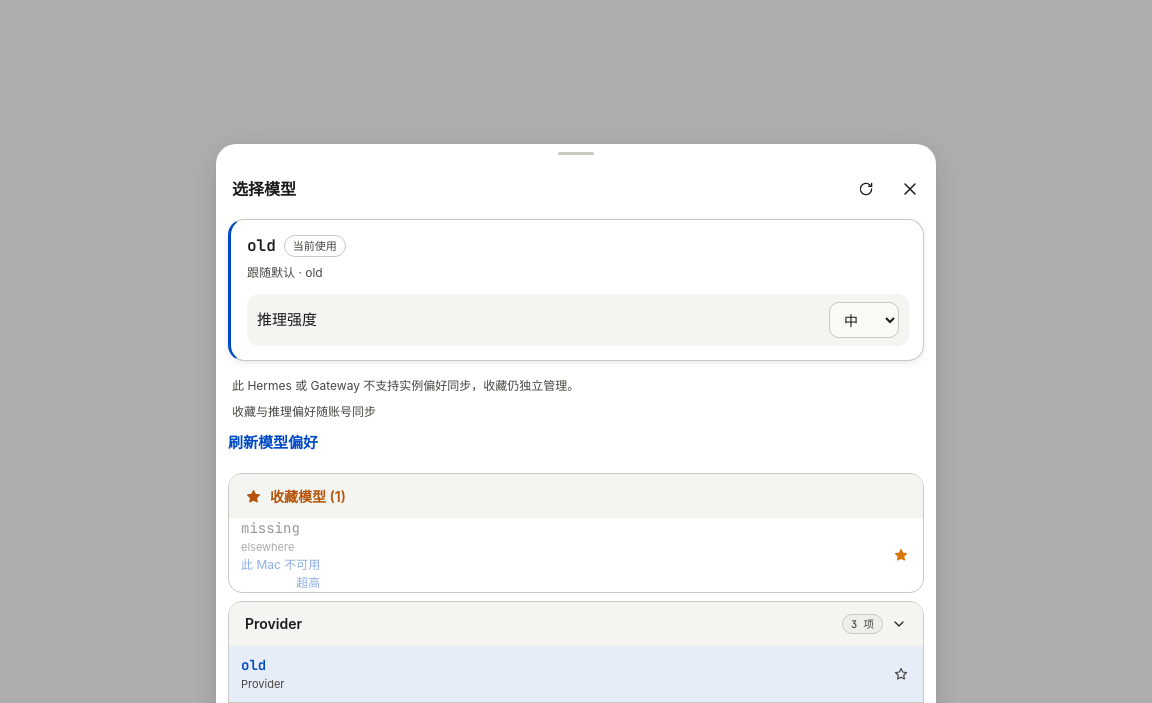
Test case: cloud model updates stay account-owned, preserve local originals and never switch the live conversation
Check: the button with class "model-pick" showing "missing elsewhere 此 Mac 不可用 超高" is disabled, box x1=241 y1=518 x2=879 y2=592
Click the 1st button with class "model-star" at (901, 555), box x1=879 y1=533 x2=923 y2=577
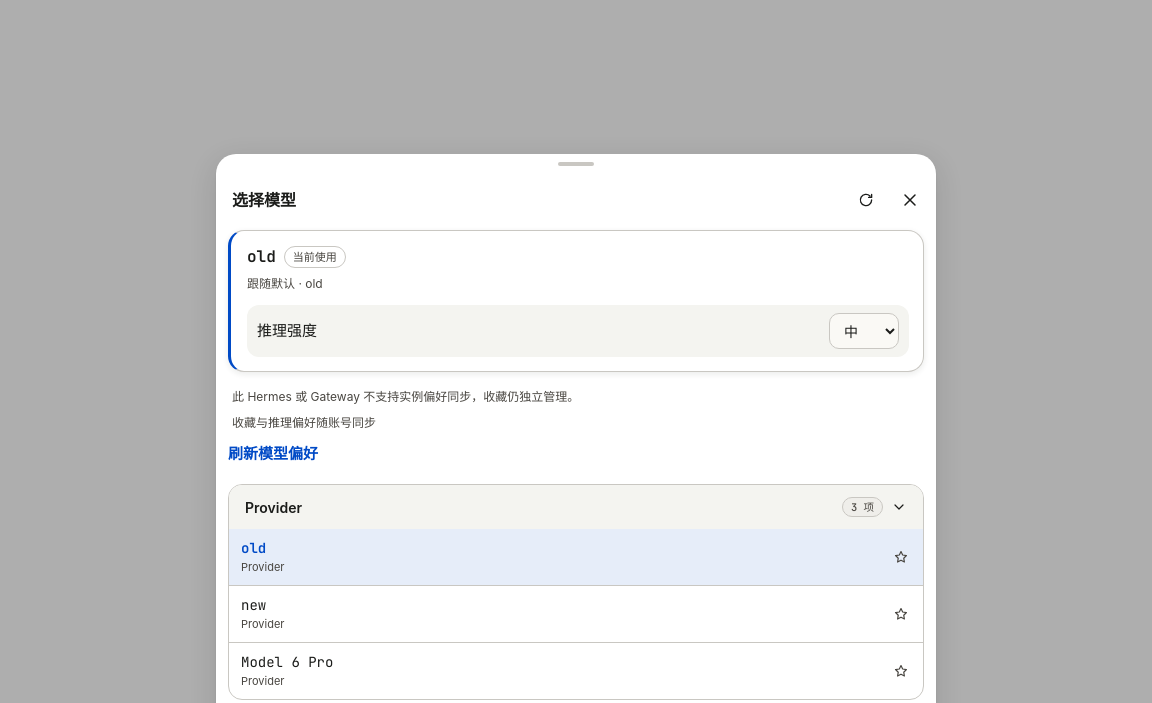
Check: the text "missing" is gone
